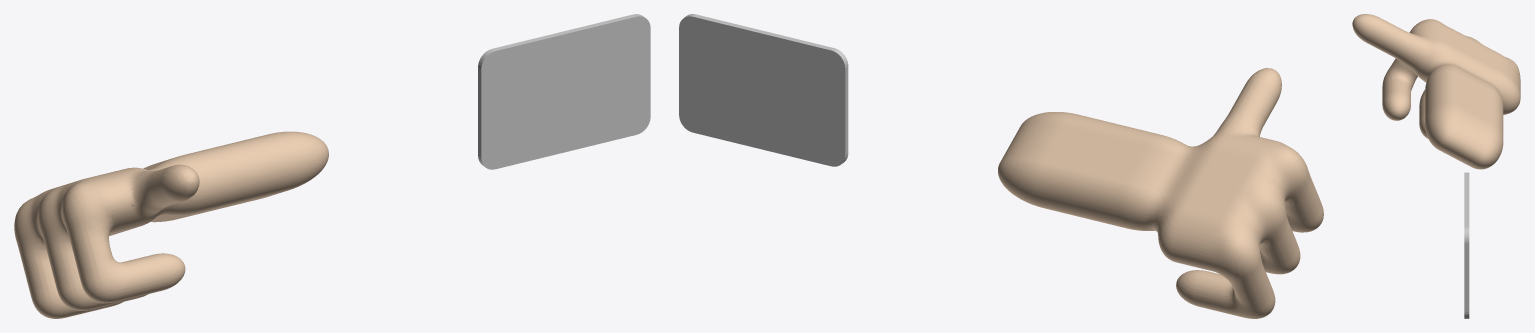
Rendered from hand-thumbsup.glb.
3 views of the same model, side by side, from view 1: azimuth 30°, elevation 25°; view 2: azimuth 150°, elevation 25°; view 3: azimuth 270°, elevation 25° (orthographic). The views are drawn at different scales.
Parts seen in each view (by area): view 1: Mball.009, Card; view 2: Mball.009, Card; view 3: Mball.009, Card.
Part boxes in pixels (left/top/right/bottom): Mball.009: left=14, top=131, right=328, bottom=318; Card: left=478, top=14, right=650, bottom=169; Mball.009: left=998, top=68, right=1323, bottom=318; Card: left=679, top=14, right=848, bottom=166; Mball.009: left=1352, top=14, right=1520, bottom=169; Card: left=1464, top=172, right=1469, bottom=318.
Bounding box in the file's own units: 3.55 × 1.04 × 1.1.
